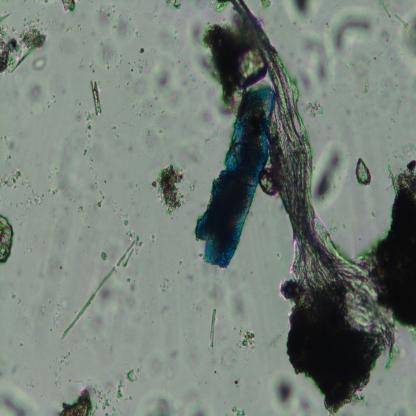Background material: (274, 276, 385, 412), (61, 216, 143, 340), (374, 147, 416, 331), (48, 121, 113, 214), (203, 15, 266, 97), (91, 0, 139, 71), (0, 9, 46, 72), (312, 140, 349, 203), (297, 32, 334, 91), (152, 163, 188, 219), (13, 70, 56, 114), (13, 180, 54, 226), (207, 268, 244, 317), (335, 10, 374, 52), (59, 382, 104, 416), (176, 378, 213, 416), (153, 64, 181, 111), (275, 381, 311, 410), (399, 8, 416, 63), (116, 365, 139, 405), (0, 213, 17, 267), (0, 390, 35, 415), (351, 51, 371, 93), (88, 75, 104, 121), (208, 304, 223, 352), (287, 0, 318, 23), (231, 327, 257, 354), (0, 132, 20, 165), (380, 343, 404, 370), (144, 392, 173, 414), (186, 10, 204, 43), (258, 168, 277, 198), (355, 155, 372, 188), (156, 349, 172, 382), (0, 167, 21, 190), (145, 126, 163, 152), (302, 101, 324, 120), (90, 193, 110, 211), (60, 1, 77, 16), (133, 37, 146, 56), (157, 276, 171, 293), (163, 1, 182, 12), (228, 405, 247, 416), (233, 375, 242, 389), (148, 232, 158, 244), (174, 258, 185, 267)
Cellulose filter fibre: (234, 1, 398, 351)
Fragment: (195, 90, 276, 267)
